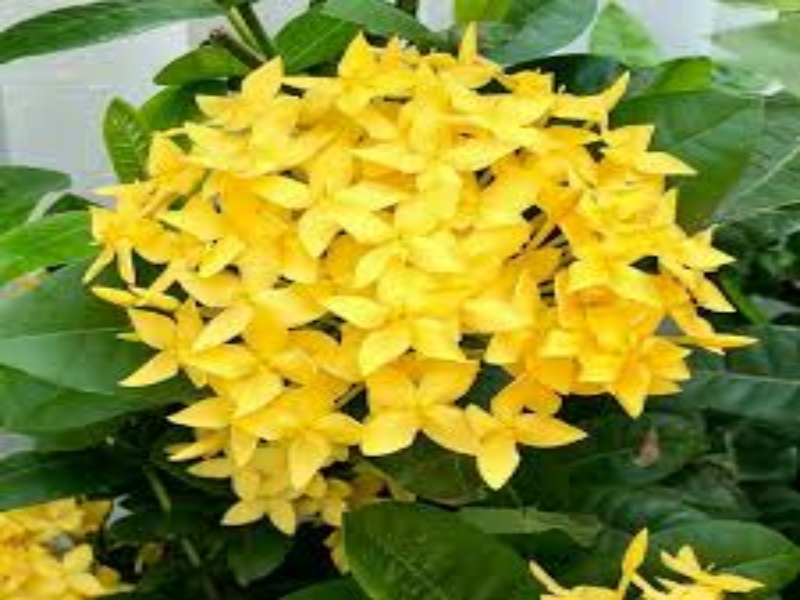Ixora: (75, 25, 775, 540)
